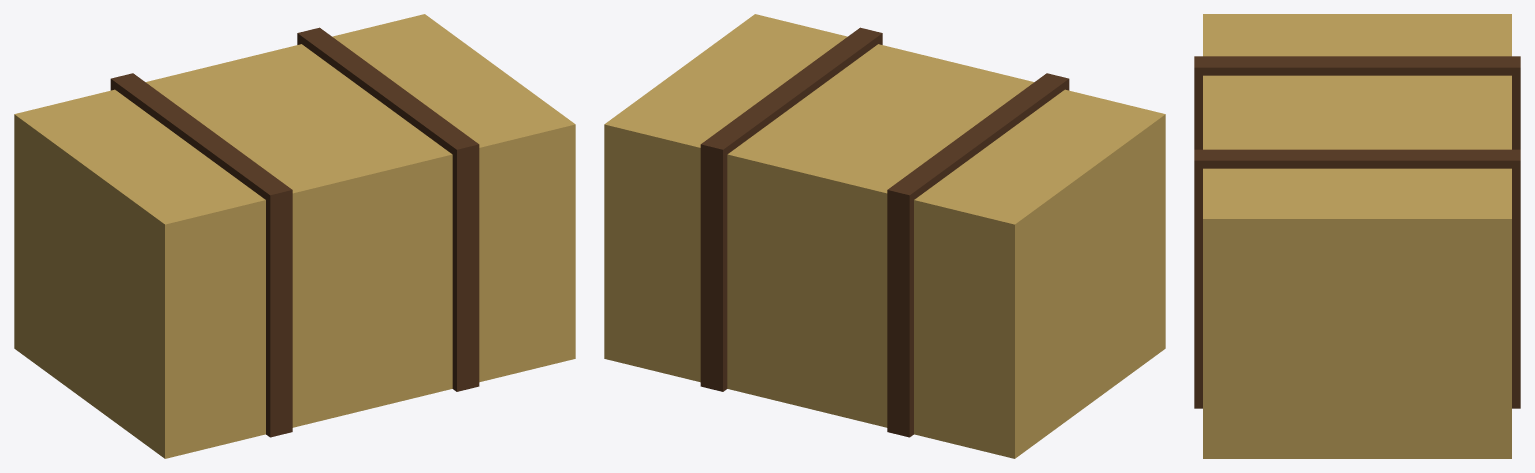
Rendered from Hay_Bale.fbx.
3 views of the same model, side by side, from view 1: azimuth 30°, elevation 25°; view 2: azimuth 150°, elevation 25°; view 3: azimuth 270°, elevation 25° (orthographic). The views are drawn at different scales.
Visible parts, largest first — view 1: Hay_Bale; view 2: Hay_Bale; view 3: Hay_Bale.
Boxes of the visible parts, <box> form: Hay_Bale: <box>14,14,575,458</box>; Hay_Bale: <box>604,14,1165,458</box>; Hay_Bale: <box>1194,14,1520,458</box>.
Bounding box in the file's own units: 1.1 × 0.62 × 0.74.
